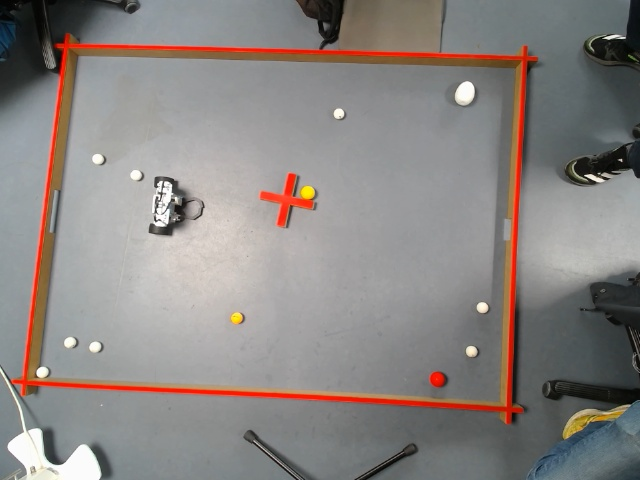big_goal: (38, 183, 62, 234)
cross: (258, 171, 315, 228)
egg: (455, 81, 474, 105)
orange: (231, 314, 243, 324)
robot: (144, 174, 204, 237)
small_goal: (500, 216, 515, 242)
wall: (18, 33, 78, 395), (11, 375, 522, 414), (55, 43, 536, 71), (498, 44, 527, 422)
white: (464, 345, 478, 357), (34, 365, 49, 375), (332, 108, 344, 120), (476, 300, 487, 312), (62, 338, 75, 348), (90, 342, 100, 353), (130, 170, 140, 180), (93, 155, 104, 164)
